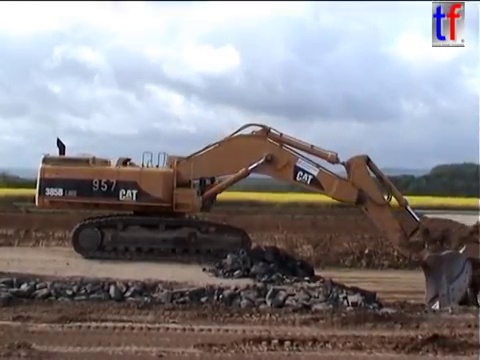excavator: (31, 121, 476, 319)
truck: (397, 230, 480, 314)
